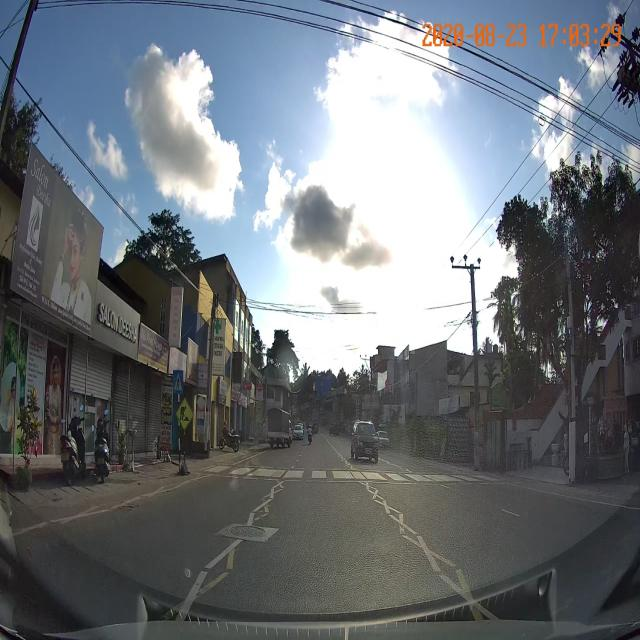Crosswalk: (192, 462, 501, 488)
